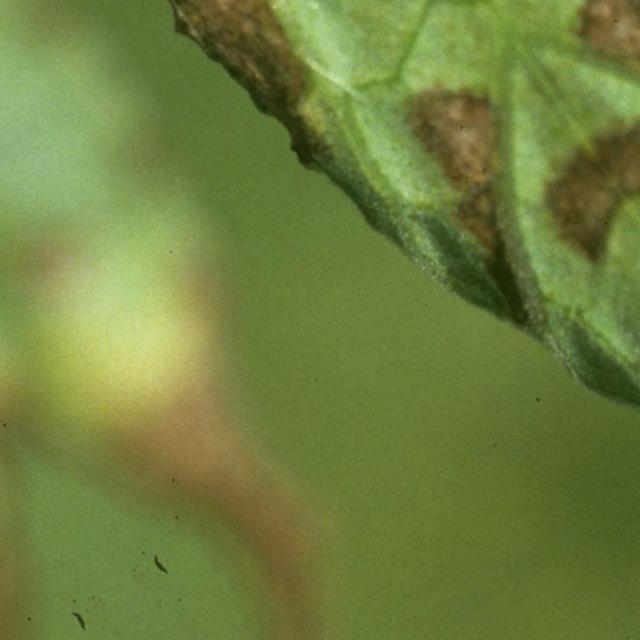Tomato leaf bacterial spot: (12, 0, 640, 640)
